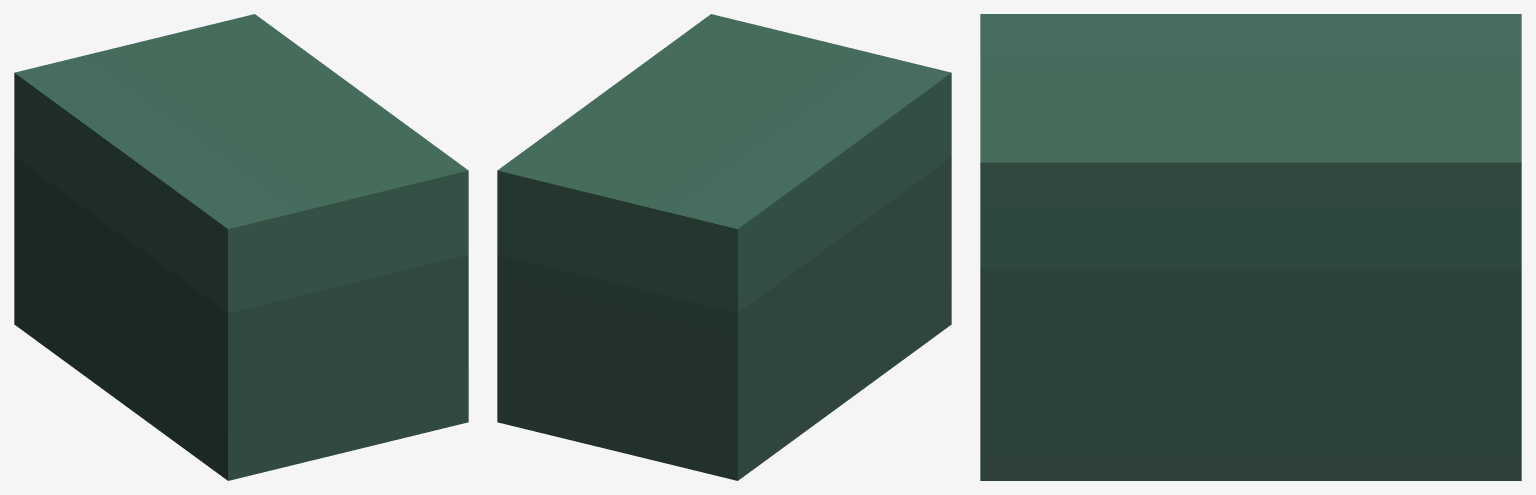
The model's file is Box_Big.fbx.
3 views of the same model, side by side, from view 1: azimuth 30°, elevation 25°; view 2: azimuth 150°, elevation 25°; view 3: azimuth 270°, elevation 25° (orthographic). The views are drawn at different scales.
Visible parts, largest first — view 1: Box_Big; view 2: Box_Big; view 3: Box_Big.
Part boxes in pixels (x1,y1,x2,y2): Box_Big: (14, 14, 468, 480); Box_Big: (497, 14, 951, 480); Box_Big: (980, 14, 1521, 480).
Bounding box in the file's own units: 40.61 × 40.61 × 62.52.
